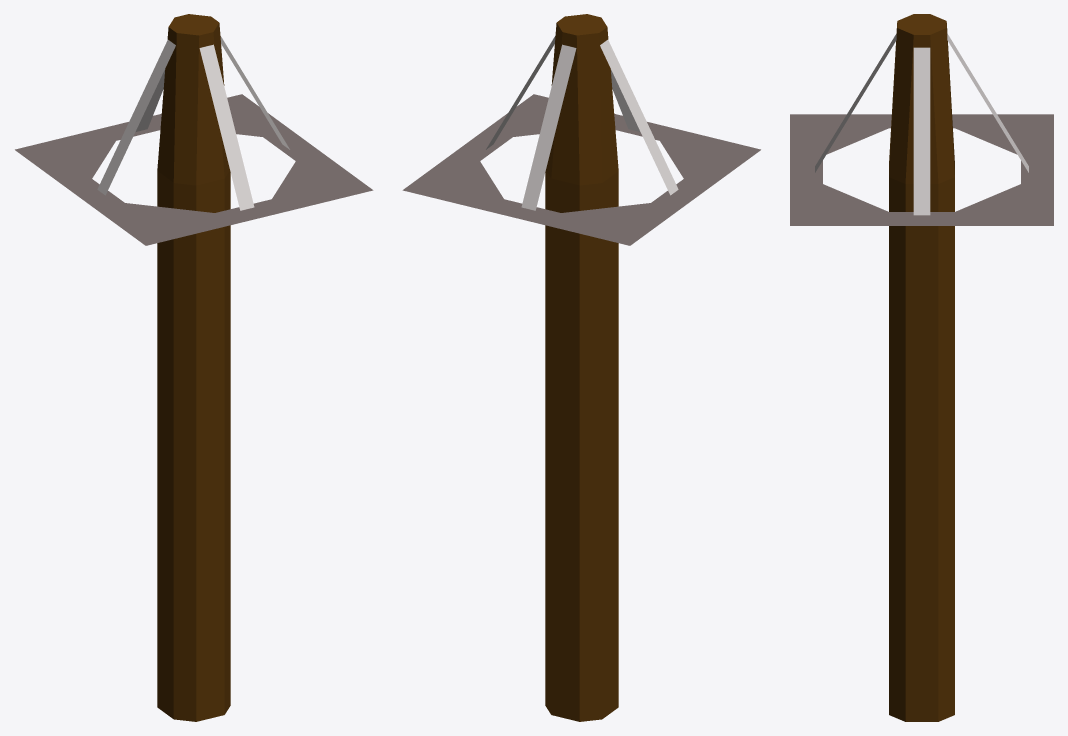
File: obj_tentroofcentreold_0.obj
The picture shows the model from 3 angles, left to right: view 1: azimuth 30°, elevation 25°; view 2: azimuth 150°, elevation 25°; view 3: azimuth 270°, elevation 25°; orthographic projection.
Size of the model in its own units: 1 by 2.86 by 1.
